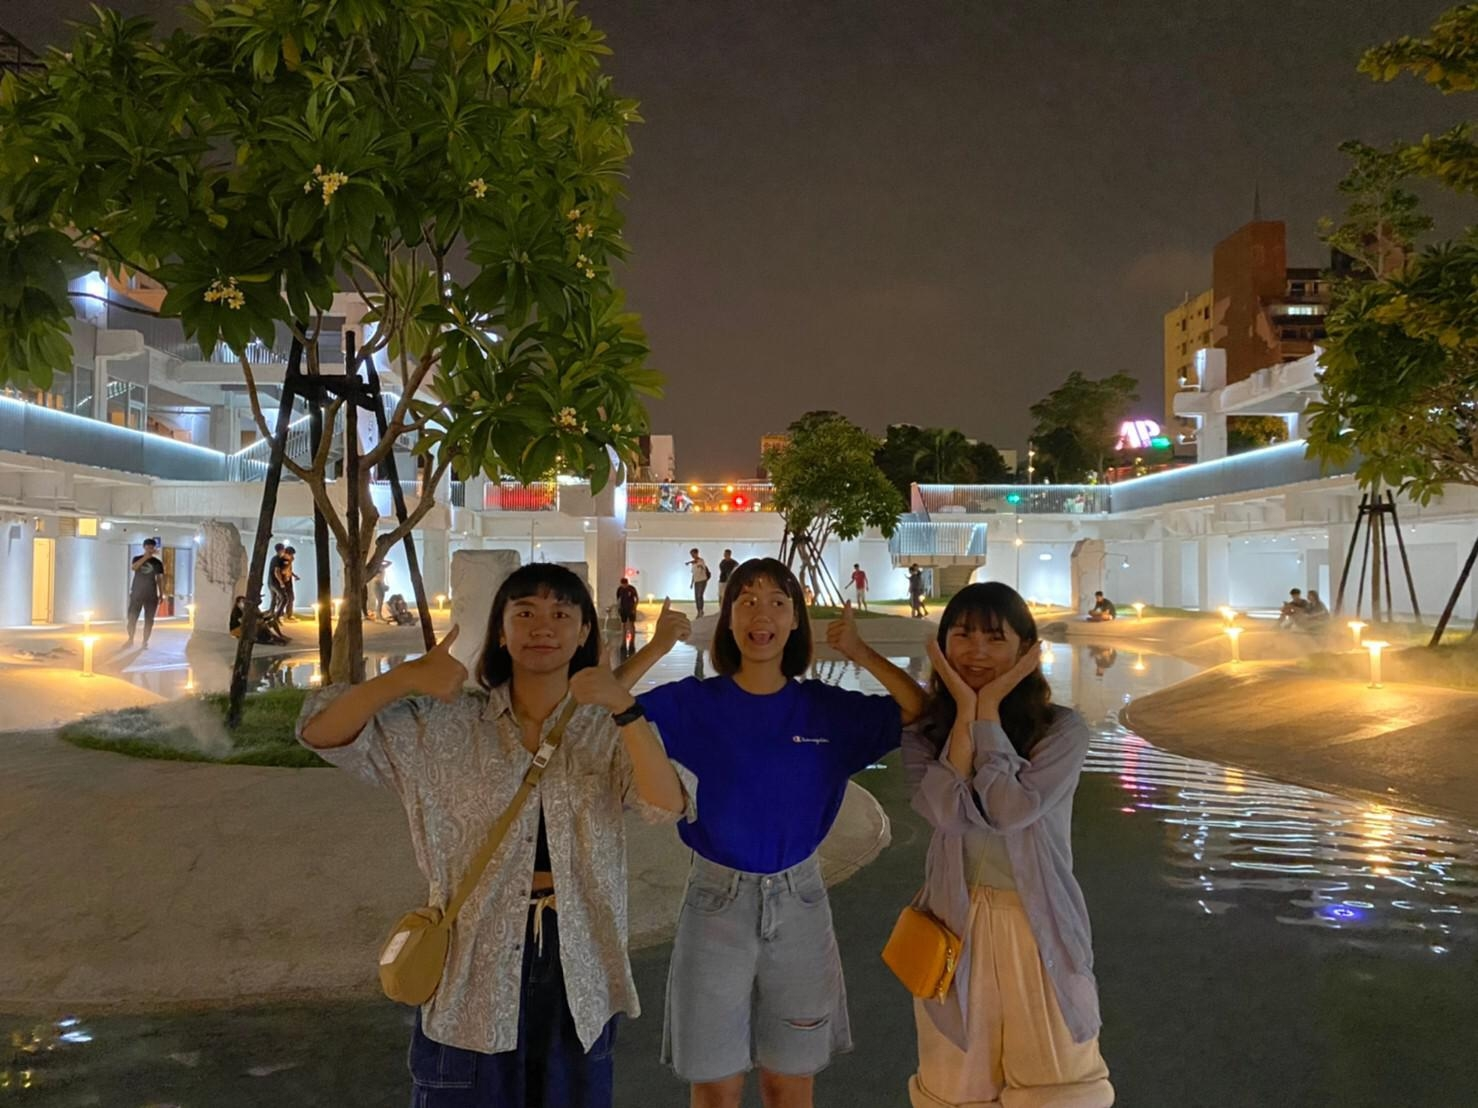people: (419, 567, 621, 1108), (911, 586, 1121, 1108), (671, 563, 842, 1108), (125, 530, 154, 640), (263, 548, 298, 617), (604, 573, 636, 644), (713, 548, 740, 611), (900, 561, 927, 619), (1281, 588, 1321, 627), (683, 544, 706, 609), (1086, 582, 1111, 619), (848, 563, 871, 600)
